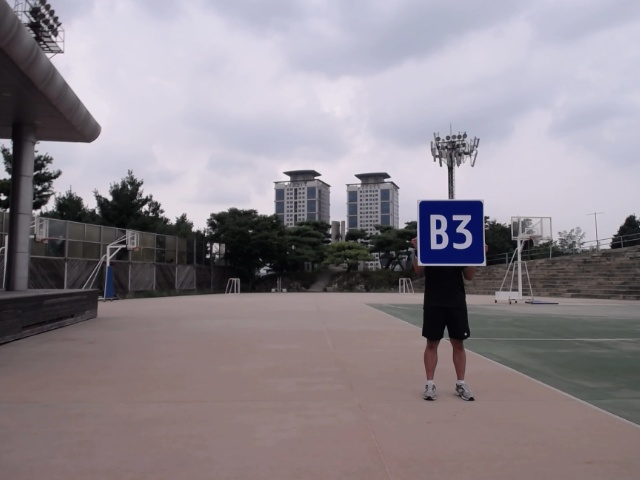delivery_b3: (417, 200, 487, 268)
